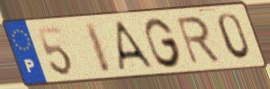0: (215, 11, 252, 63)
5: (34, 25, 75, 77)
A: (113, 19, 157, 73)
G: (143, 16, 184, 70)
I: (82, 20, 114, 75)
R: (174, 14, 223, 67)
